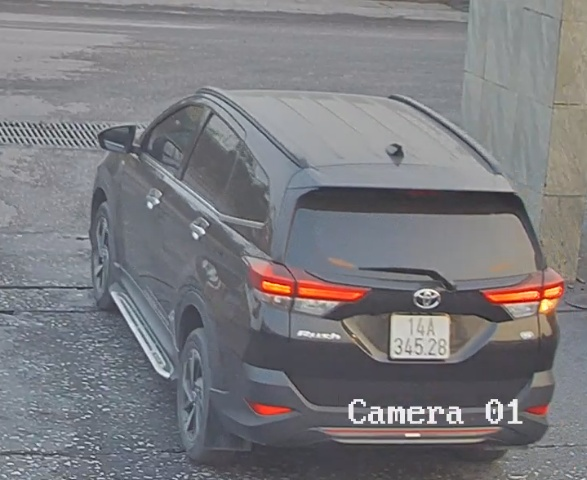vehicle plate: (388, 306, 454, 363)
